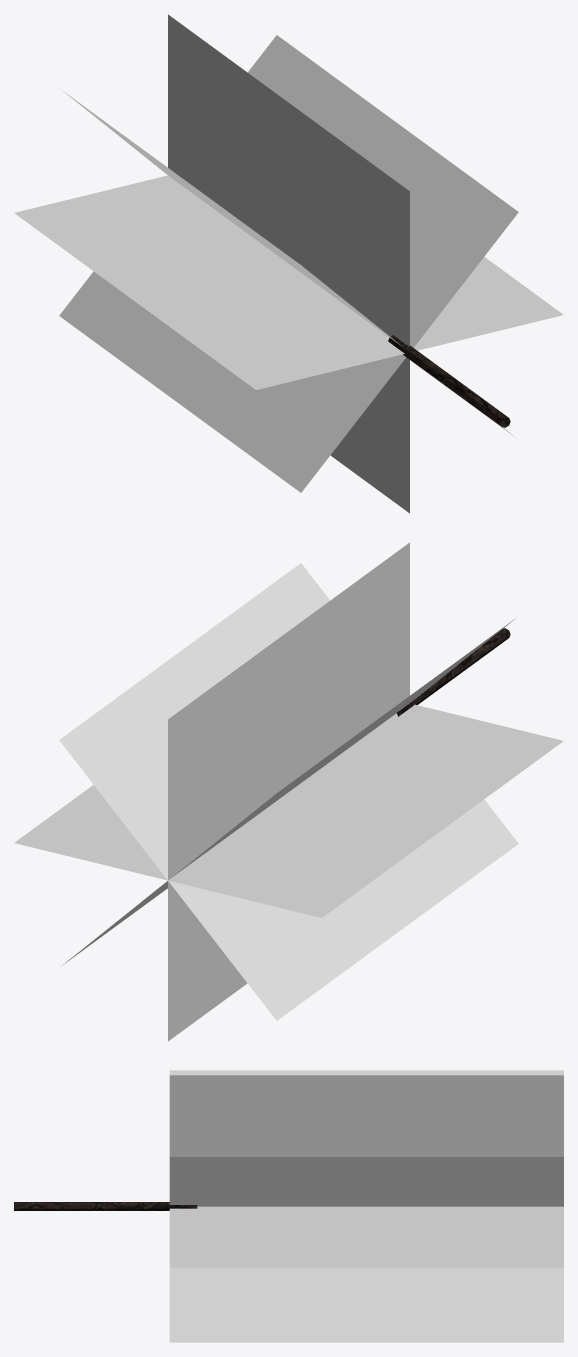
Rendered from SM_Tree3.fbx.
3 renders of one model, top to bottom at view 1: azimuth 30°, elevation 25°; view 2: azimuth 150°, elevation 25°; view 3: azimuth 270°, elevation 25°, orthographic. The views are drawn at different scales.
Parts seen in each view (by area): view 1: Cylinder.002; view 2: Cylinder.002; view 3: Cylinder.002.
Boxes of the visible parts, x1,y1,x2,y2 form: Cylinder.002: (14,14,563,513); Cylinder.002: (14,542,563,1041); Cylinder.002: (14,1070,563,1342).
Size of the model in its own units: 504 by 504 by 957.
